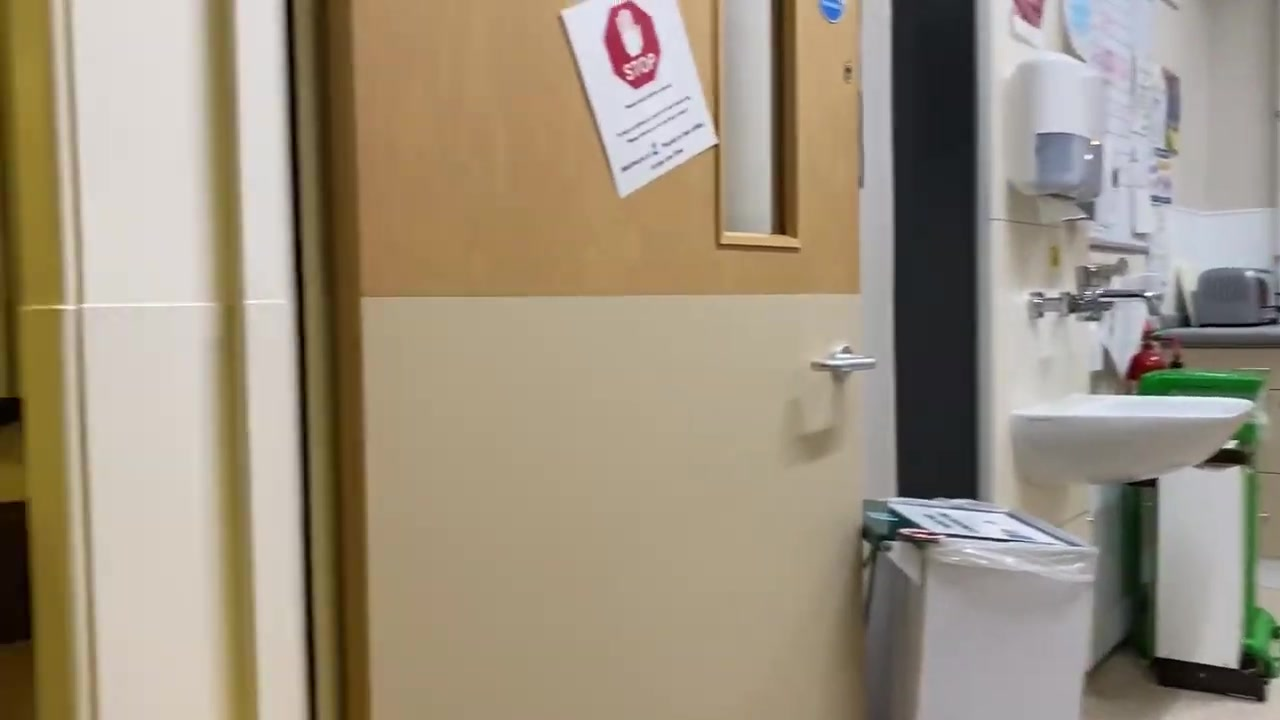dispenser: (1003, 50, 1105, 226)
door_handle: (809, 345, 878, 384)
faucet: (1029, 255, 1166, 320)
sink: (1010, 391, 1253, 489)
waste_bin: (860, 496, 1099, 720), (1134, 370, 1280, 700)
